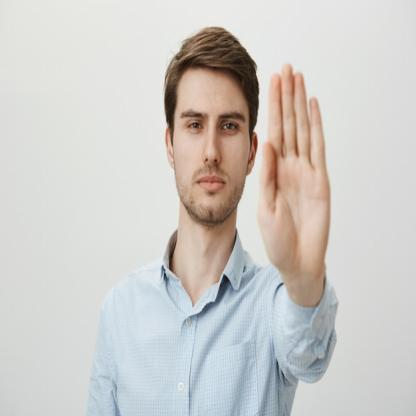stop: (254, 55, 336, 292)
